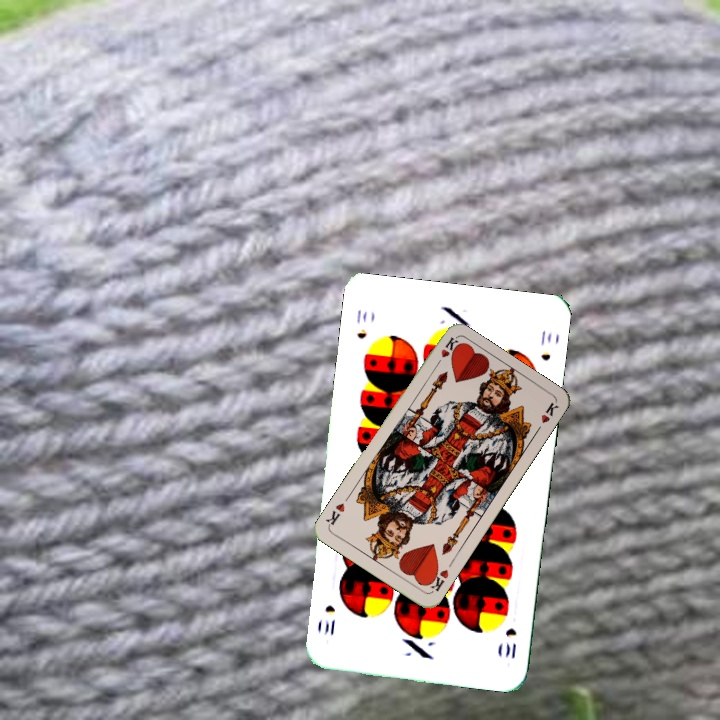HK: (430, 334, 460, 371), (423, 565, 451, 595)
S10: (501, 624, 519, 662), (352, 305, 370, 341)
